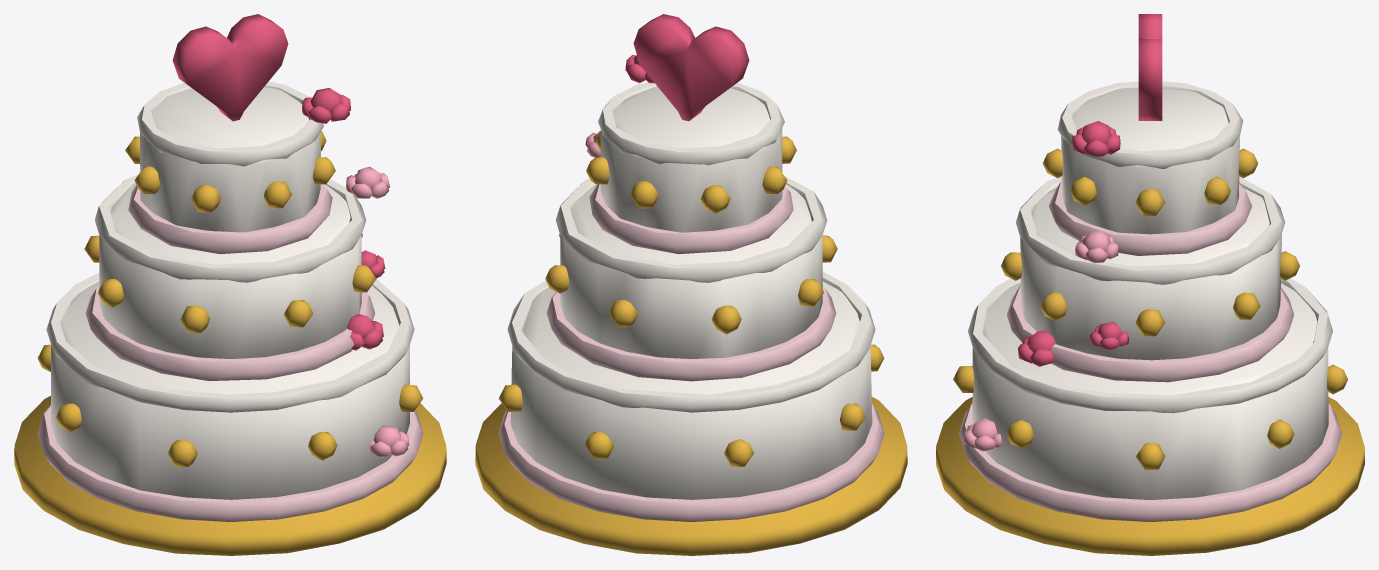
Rendered from bolo_casamento.glb.
3 renders of one model, left to right at view 1: azimuth 30°, elevation 25°; view 2: azimuth 150°, elevation 25°; view 3: azimuth 270°, elevation 25°, orthographic.
Visible parts, largest first — view 1: Bolo_Casamento; view 2: Bolo_Casamento; view 3: Bolo_Casamento.
Boxes of the visible parts, box(x1,y1,x2,y2) form: Bolo_Casamento: box(14, 14, 446, 555); Bolo_Casamento: box(475, 14, 907, 555); Bolo_Casamento: box(936, 14, 1364, 555).
Bounding box in the file's own units: 0.7157 × 0.8034 × 0.7162.
